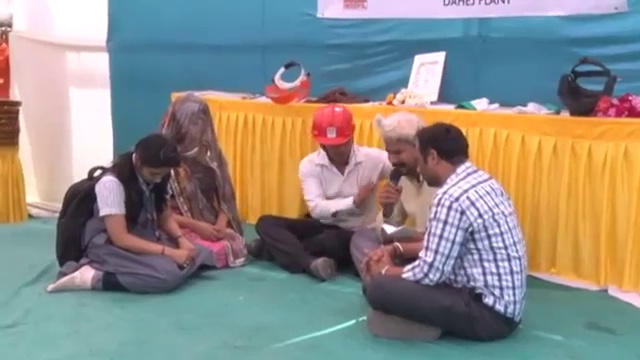helmet: (311, 107, 356, 148)
helmet_off: (414, 122, 471, 190), (163, 94, 218, 160), (126, 132, 180, 194), (378, 113, 427, 178)
helmet_on: (308, 102, 360, 168)
person: (363, 112, 531, 344), (49, 133, 201, 298), (254, 105, 385, 279), (152, 87, 248, 274), (349, 109, 439, 278)
